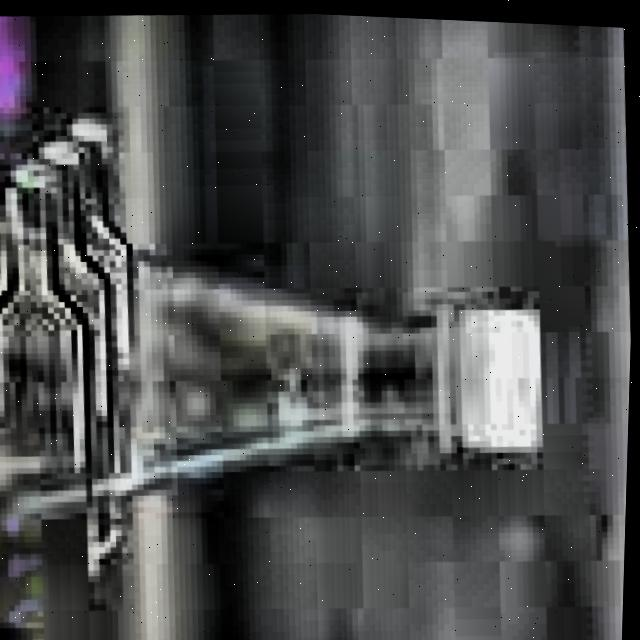plastic: (0, 139, 613, 558)
